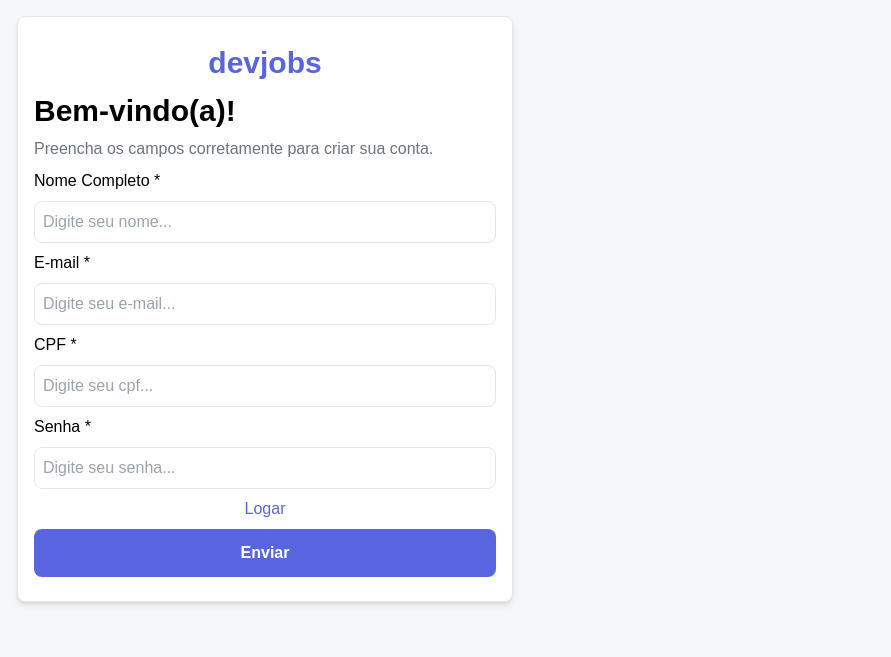
Register tests › It should return an error if the email already exists
Type "test name" into the field with id "name" at (265, 222), box [34, 201, 496, 243]
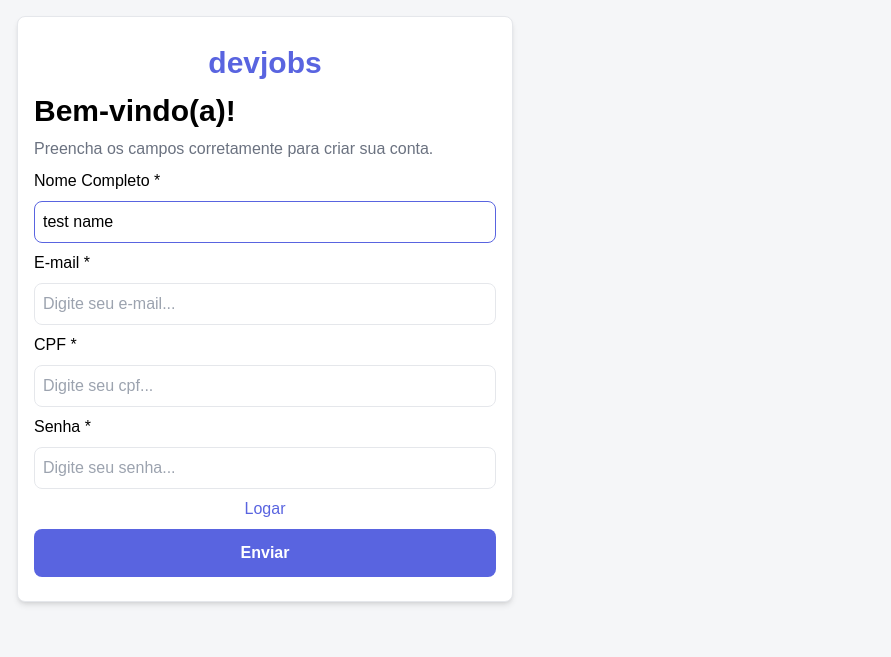
Type "test@gmail.com" into the field with id "email" at (265, 304), box [34, 283, 496, 325]
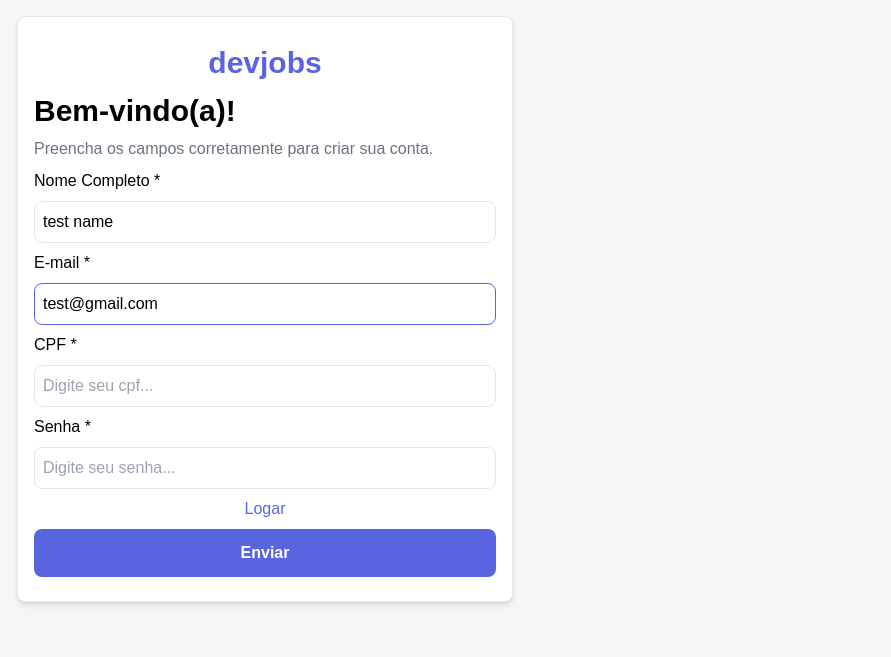
Type "00000000000" into the field with id "cpf" at (265, 386), box [34, 365, 496, 407]
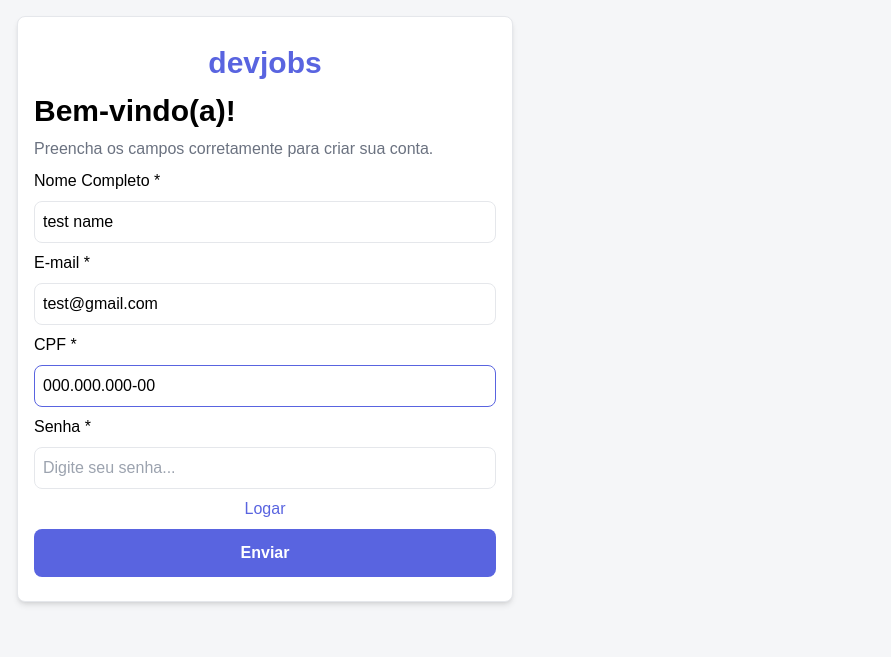
Type "123456" into the password field labelled "Senha *" at (265, 468), box [34, 447, 496, 489]
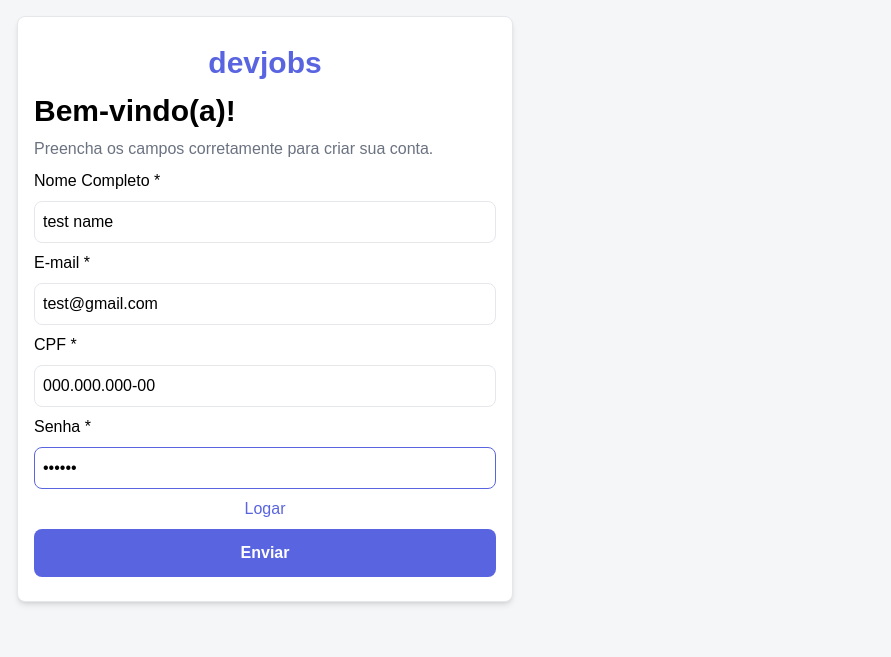
Submit the form, box [17, 16, 513, 602]
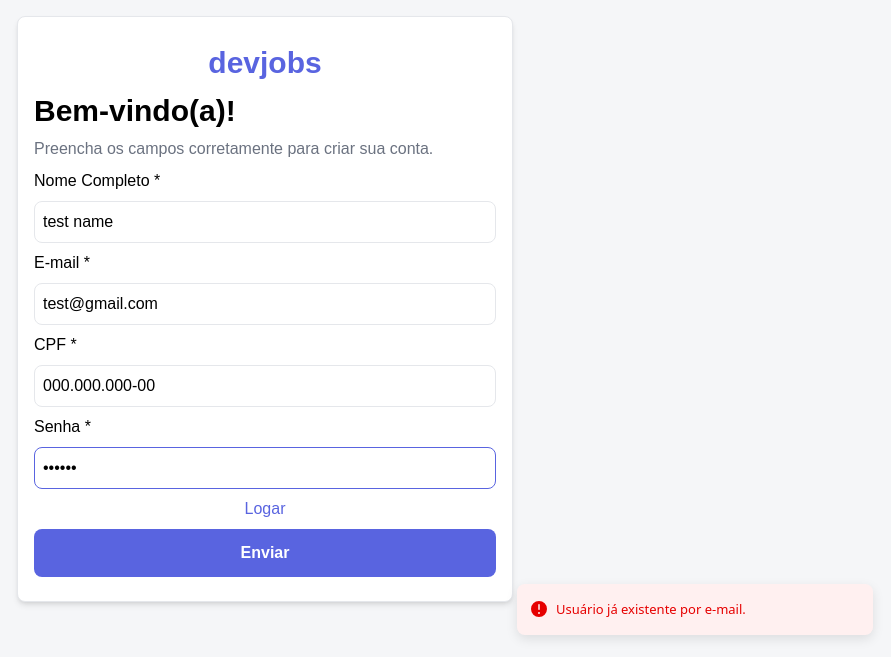
Expected: the text "Usuário já existente por e-mail." is shown, [556, 600, 746, 619]
